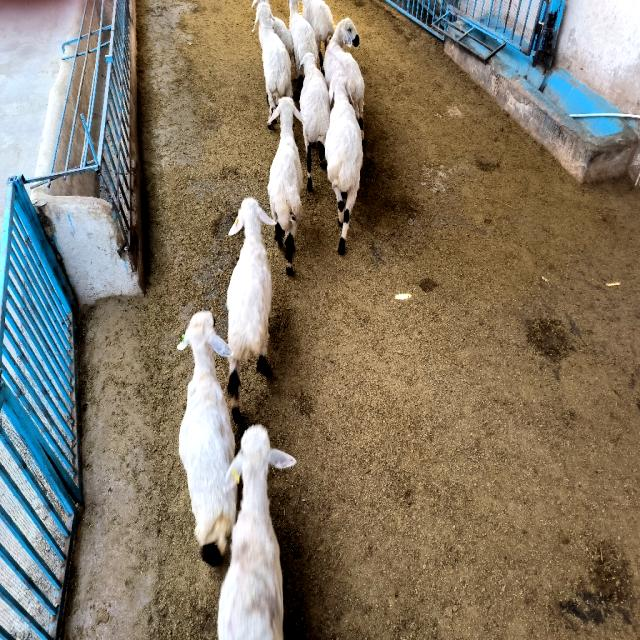sheep: (218, 425, 296, 639), (178, 312, 236, 565), (226, 198, 275, 422), (325, 73, 362, 254), (268, 97, 302, 274), (324, 18, 364, 138), (255, 2, 292, 114), (300, 52, 330, 189), (289, 0, 318, 94), (302, 0, 335, 69), (272, 15, 294, 59)
